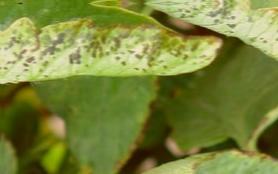Tomato leaf bacterial spot: (0, 0, 229, 78), (123, 0, 278, 82)
